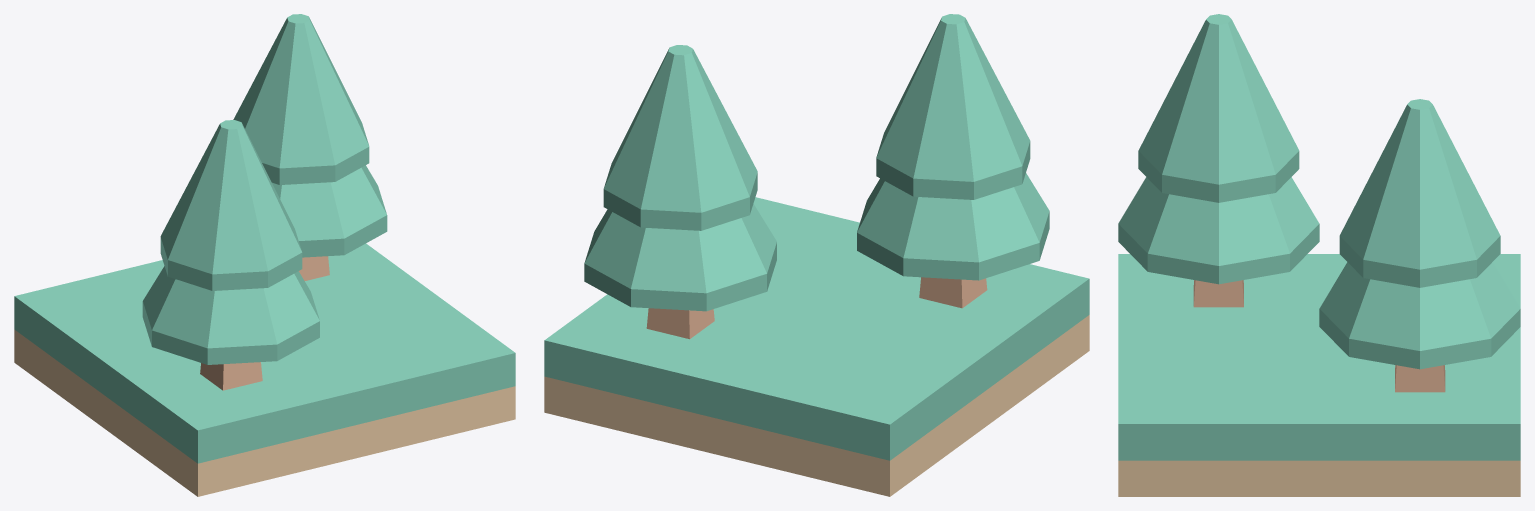
File: terrain_tree1.gltf
The picture shows the model from 3 angles, left to right: view 1: azimuth 30°, elevation 25°; view 2: azimuth 150°, elevation 25°; view 3: azimuth 270°, elevation 25°; orthographic projection. The views are drawn at different scales.
Visible parts, largest first — view 1: tile_treeDouble, tree, tree.001; view 2: tile_treeDouble, tree, tree.001; view 3: tile_treeDouble, tree, tree.001.
Part boxes in pixels (box(x1,y1,x2,y2)): tile_treeDouble: box(14, 243, 515, 496); tree: box(142, 120, 319, 390); tree.001: box(233, 14, 387, 280); tile_treeDouble: box(544, 197, 1089, 496); tree: box(857, 14, 1049, 308); tree.001: box(584, 45, 776, 339); tile_treeDouble: box(1118, 254, 1520, 496); tree: box(1118, 14, 1319, 307); tree.001: box(1319, 99, 1520, 392).
Bounding box in the file's own units: 1 × 0.96 × 1.
